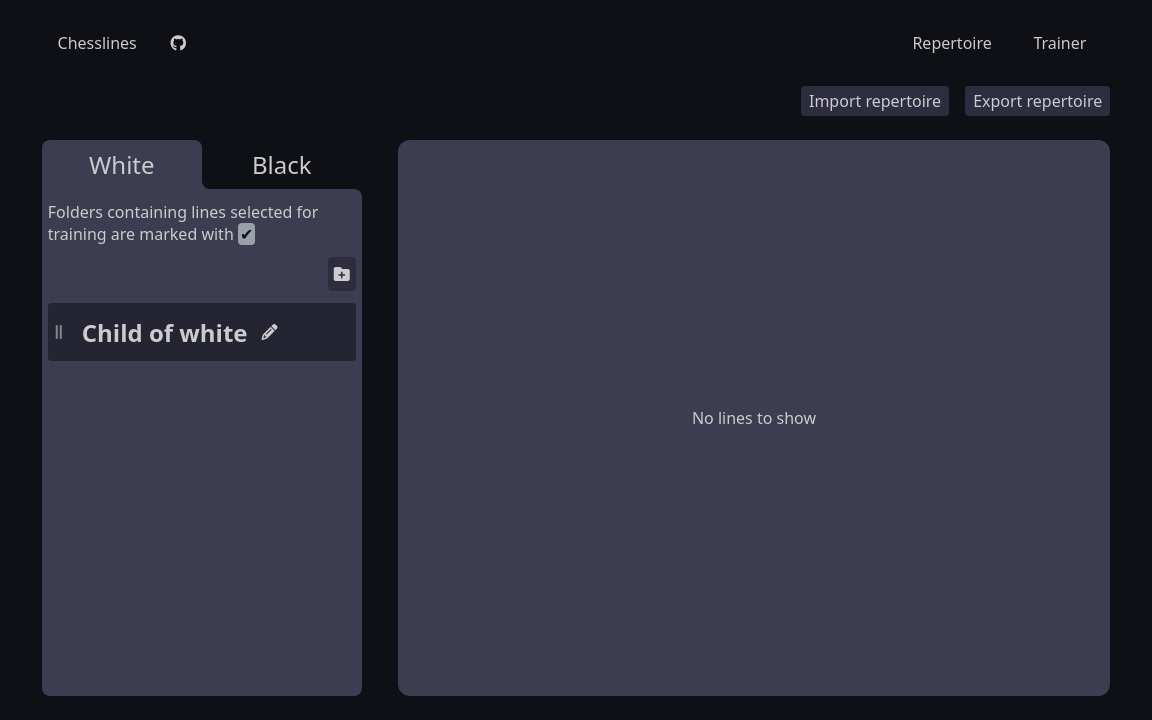
Scenario: Initial elements › Renders "(1)" in header trainer page link if 1 line selected
Click the button named "open child of white folder in lines panel": (213, 332) [70, 303, 356, 361]
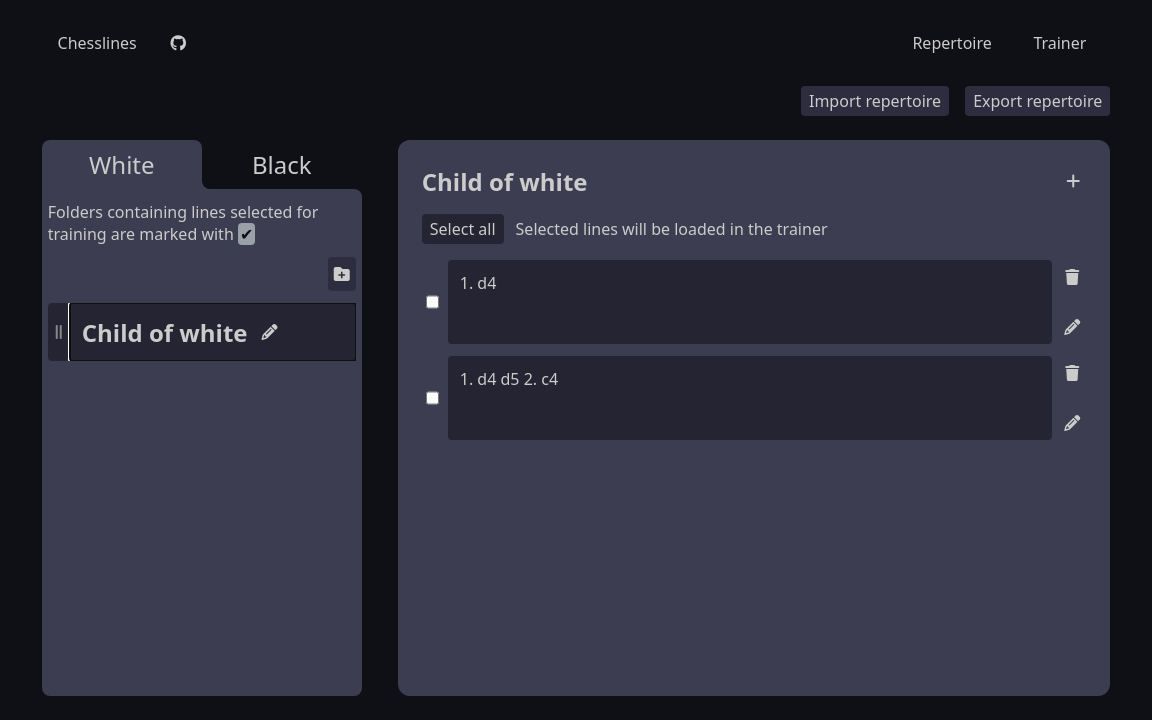
Click the checkbox next to "1. d4 d5 2. c4": (432, 398) [426, 359, 439, 437]
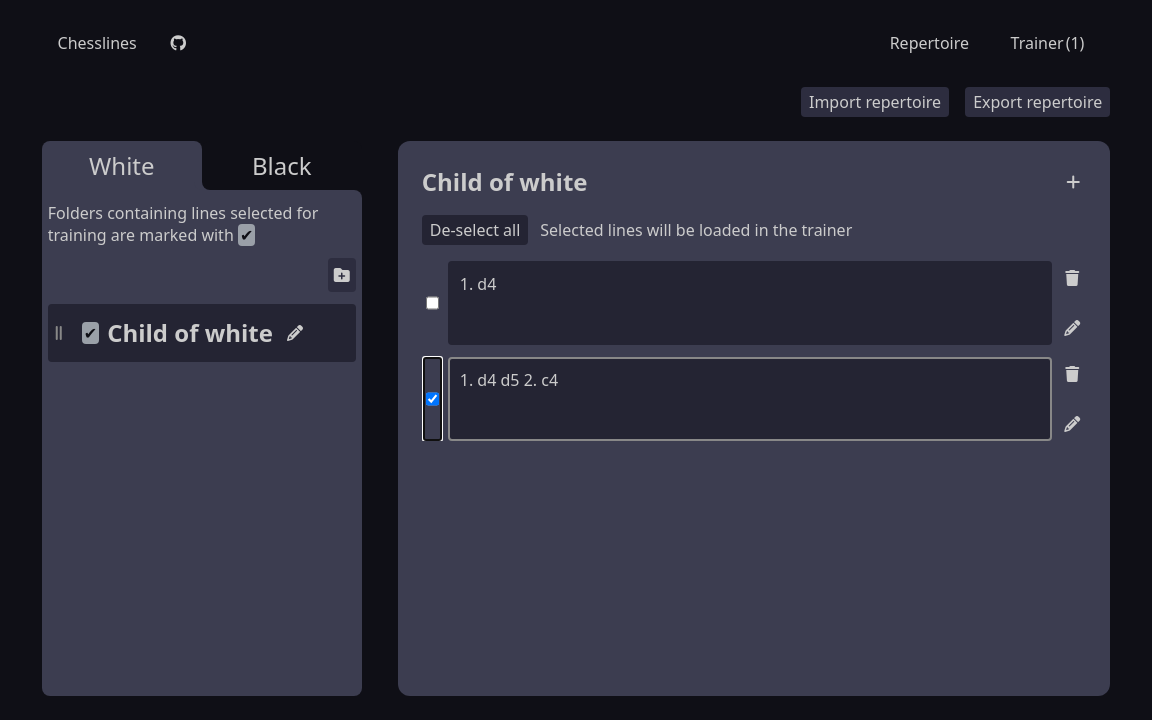
Expected: the link "Trainer (1)" is shown, [1011, 32, 1084, 54]
